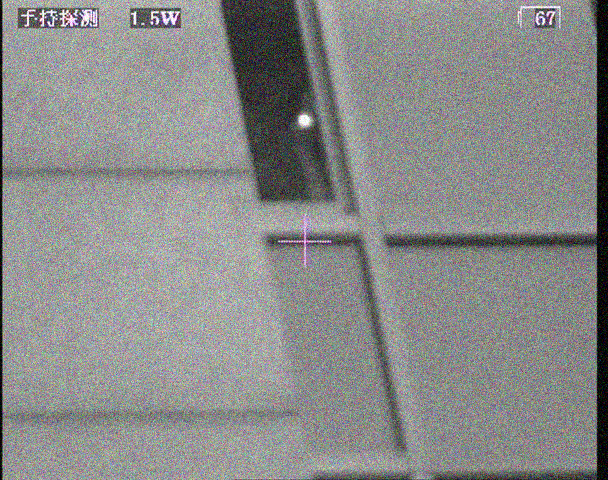my: (296, 112, 312, 127)
